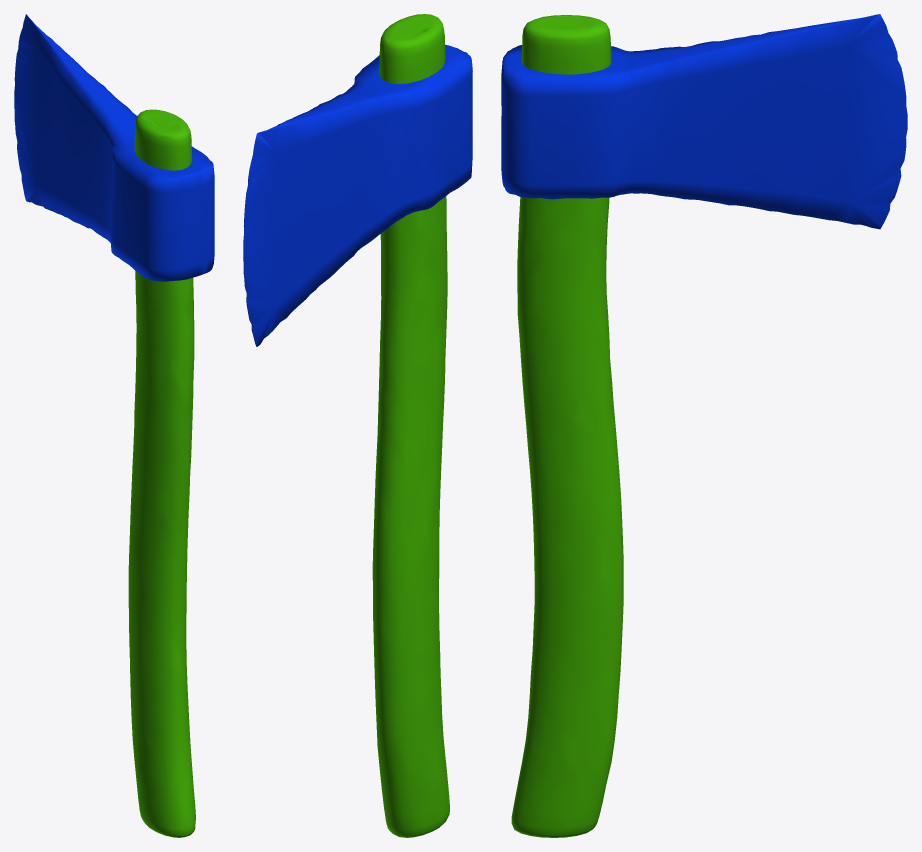
File: Steel Axe Blender Med.fbx
3 renders of one model, left to right at view 1: azimuth 30°, elevation 25°; view 2: azimuth 150°, elevation 25°; view 3: azimuth 270°, elevation 25°, orthographic. The views are drawn at different scales.
Visible parts, largest first — view 1: Steel Axe low, Steel Axe low.001; view 2: Steel Axe low, Steel Axe low.001; view 3: Steel Axe low.001, Steel Axe low.
Part boxes in pixels (x1=…): Steel Axe low: x1=128, y1=109, x2=195, y2=837; Steel Axe low.001: x1=14, y1=14, x2=214, y2=281; Steel Axe low: x1=372, y1=14, x2=449, y2=837; Steel Axe low.001: x1=243, y1=44, x2=472, y2=346; Steel Axe low.001: x1=501, y1=14, x2=907, y2=229; Steel Axe low: x1=511, y1=15, x2=623, y2=837.
Bounding box in the file's own units: 5 × 49.68 × 22.43.
